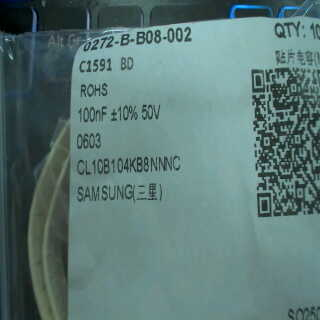100nF: (72, 103, 109, 126)
